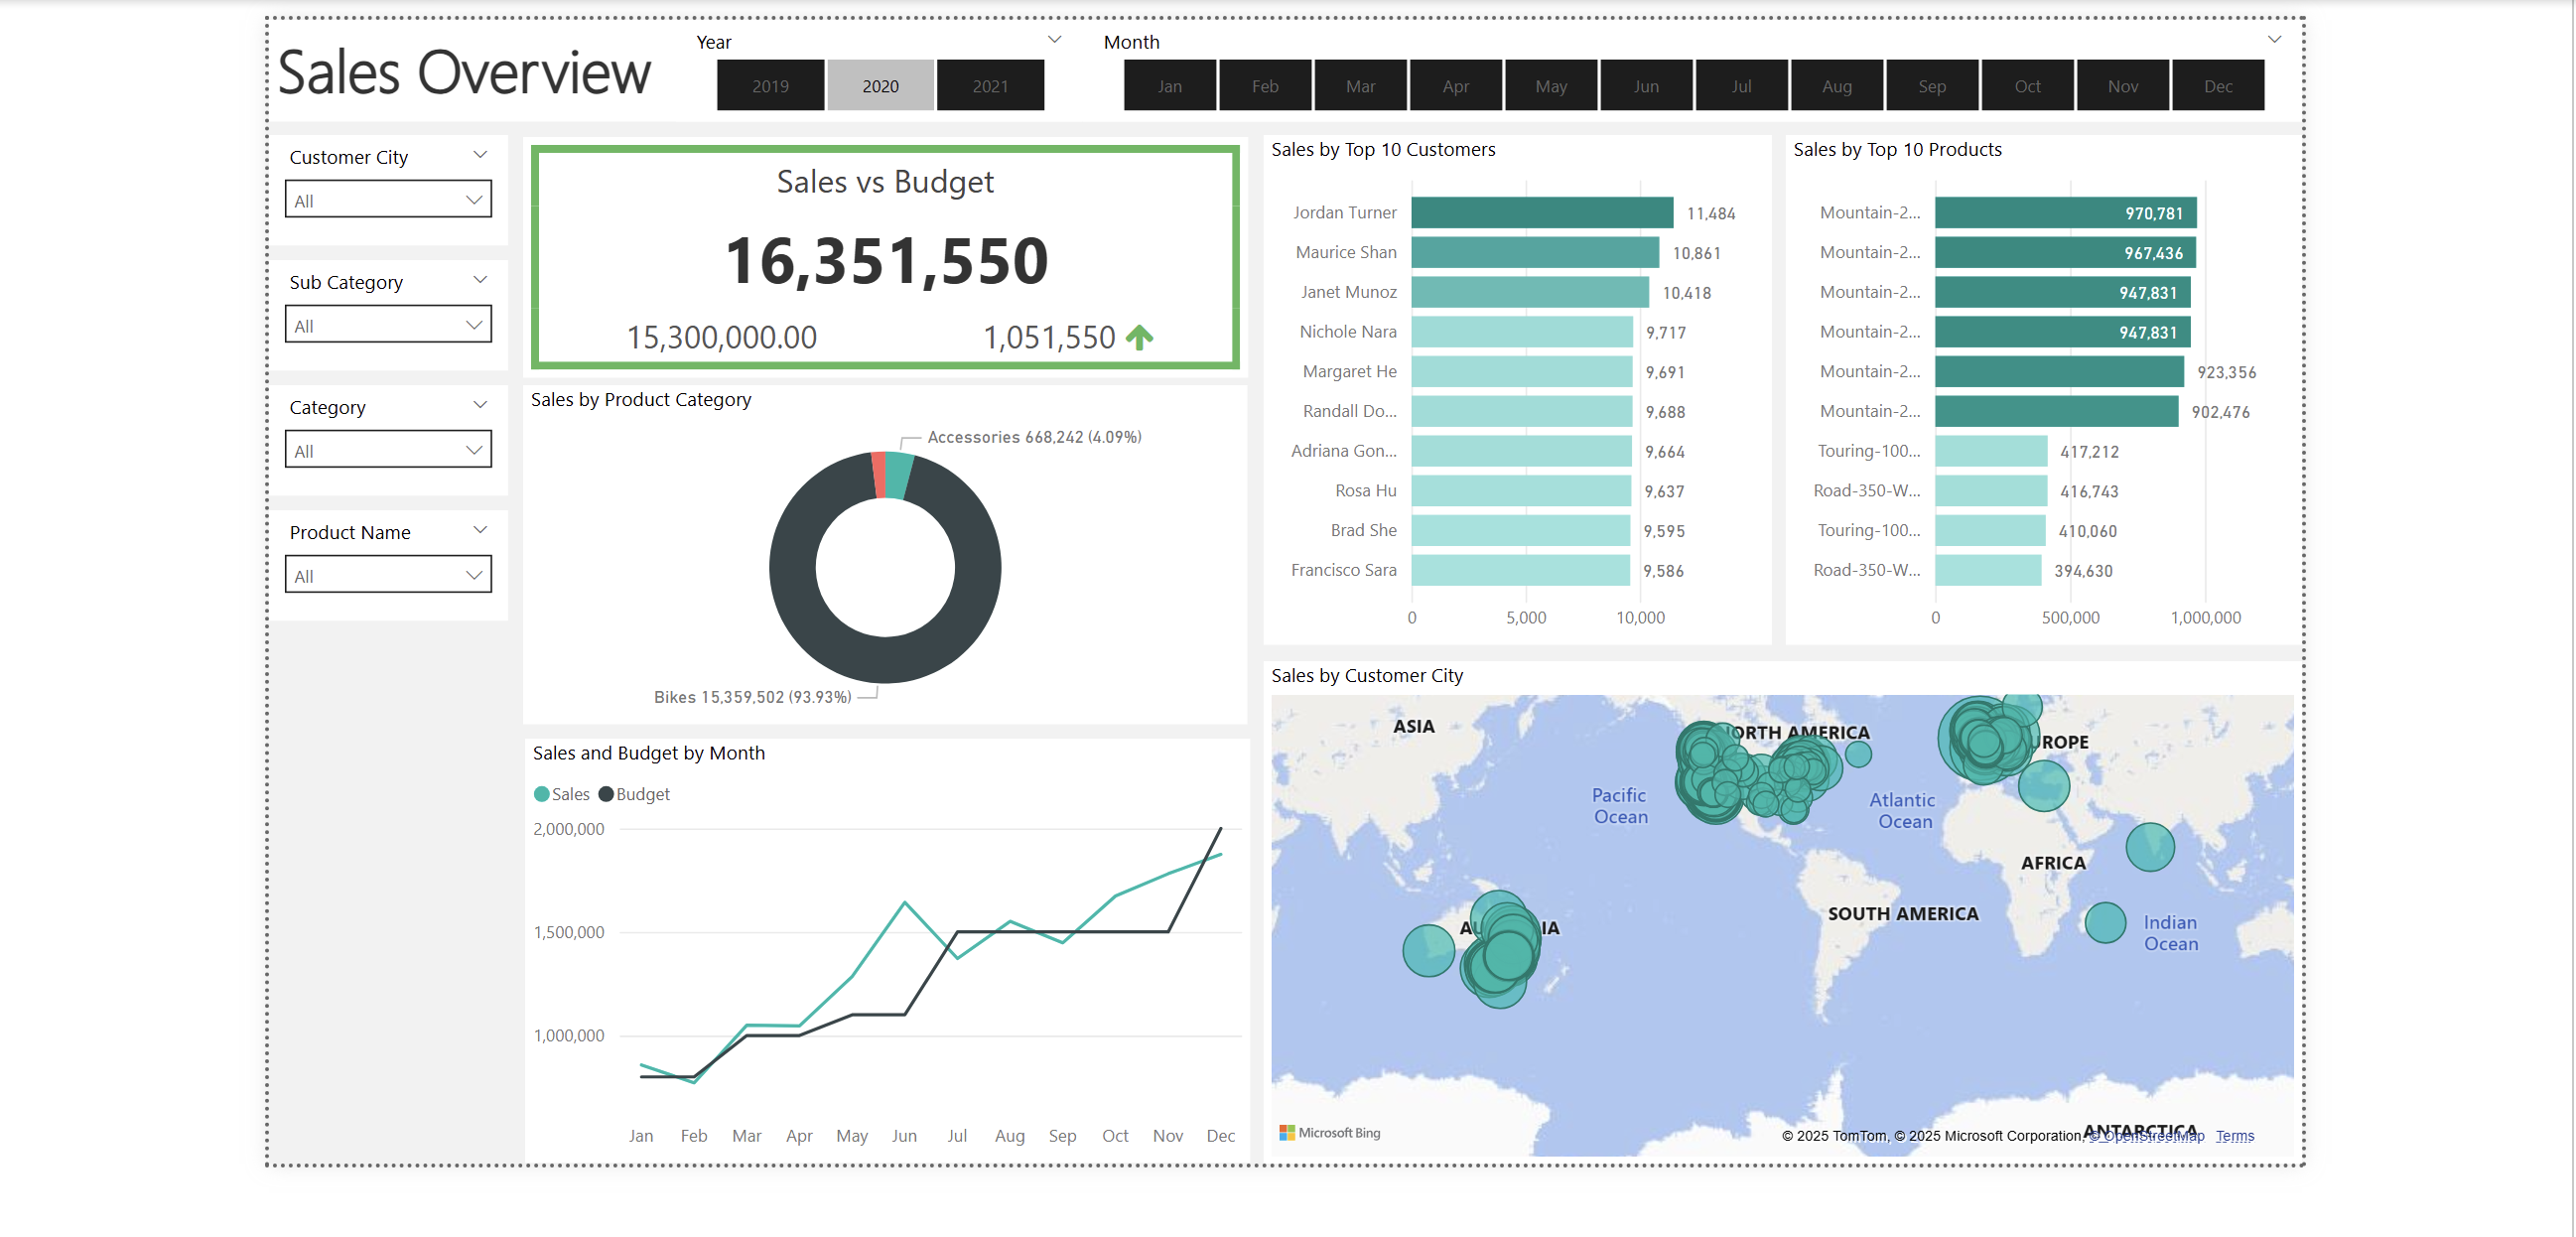

The dashboard page shown, as its layout file describes it:
{"tool":"powerbi","page":{"name":"Sales Overview","canvas":[1280,720],"ordinal":0},"visuals":[{"type":"textbox","box":[0,0,1280,64],"z":0},{"type":"slicer","fields":{"Values":["DIM_Calendar.Year"]},"box":[256,0,256,64],"z":1000},{"type":"slicer","fields":{"Values":["DIM_Calendar.MonthShort"]},"box":[512,0,768,64],"z":2000},{"type":"slicer","fields":{"Values":["DIM_Customers.Customer City"]},"box":[0,73,150.5,69.3],"z":3000},{"type":"slicer","fields":{"Values":["DIM_Products.Product Category"]},"box":[0,229.9,150.5,69.3],"z":4000},{"type":"slicer","fields":{"Values":["DIM_Products.Product Name"]},"box":[0,308.4,150.5,69.3],"z":5000},{"type":"slicer","fields":{"Values":["DIM_Products.Sub Category"]},"box":[0,151.4,150.5,69.3],"z":6000},{"type":"barChart","title":"Sales by Top 10 Products","fields":{"Category":["DIM_Products.Product Name"],"Y":["Analysis Metrics.Sales"]},"box":[955.2,73,324.8,321.1],"z":7000},{"type":"lineChart","fields":{"Category":["DIM_Calendar.MonthShort"],"Y":["Analysis Metrics.Sales","Analysis Metrics.Budget"]},"box":[160.7,452.8,456.3,267.2],"z":8000},{"type":"barChart","title":"Sales by Top 10 Customers","fields":{"Category":["DIM_Customers.Full Name"],"Y":["Analysis Metrics.Sales"]},"box":[625.9,73,320.2,321.1],"z":9000},{"type":"donutChart","fields":{"Y":["Analysis Metrics.Sales"],"Series":["DIM_Products.Product Category"]},"box":[160.6,229.9,456.2,213.5],"z":10000},{"type":"map","fields":{"Category":["DIM_Customers.Customer City"],"Size":["Analysis Metrics.Sales"]},"box":[625.9,403.3,654.1,316.6],"z":12000},{"type":"BBED0A4D4D8D44CE93CF2DAFADEE466C","fields":{"actual":["Analysis Metrics.Sales"],"target2":["Analysis Metrics.Sales / Budget"],"target1":["Analysis Metrics.Budget"]},"box":[160.5,73.4,456.6,151.3],"z":13001}]}

Visuals, with their boxes on the page's 1280x720 design canvas (x1, y1, x2, y2). These are canvas units, not pixel positions in the 2576x1237 screenshot, which may show the page scaled, cropped or inside an application window:
textbox: region(0, 0, 1280, 64)
slicer - DIM_Calendar.Year: region(256, 0, 512, 64)
slicer - DIM_Calendar.MonthShort: region(512, 0, 1280, 64)
slicer - DIM_Customers.Customer City: region(0, 73, 150, 142)
slicer - DIM_Products.Product Category: region(0, 230, 150, 299)
slicer - DIM_Products.Product Name: region(0, 308, 150, 378)
slicer - DIM_Products.Sub Category: region(0, 151, 150, 221)
"Sales by Top 10 Products" barChart: region(955, 73, 1280, 394)
lineChart - DIM_Calendar.MonthShort x Analysis Metrics.Sales: region(161, 453, 617, 720)
"Sales by Top 10 Customers" barChart: region(626, 73, 946, 394)
donutChart - Analysis Metrics.Sales x DIM_Products.Product Category: region(161, 230, 617, 443)
map - DIM_Customers.Customer City x Analysis Metrics.Sales: region(626, 403, 1280, 720)
BBED0A4D4D8D44CE93CF2DAFADEE466C - Analysis Metrics.Sales x Analysis Metrics.Sales / Budget: region(160, 73, 617, 225)
